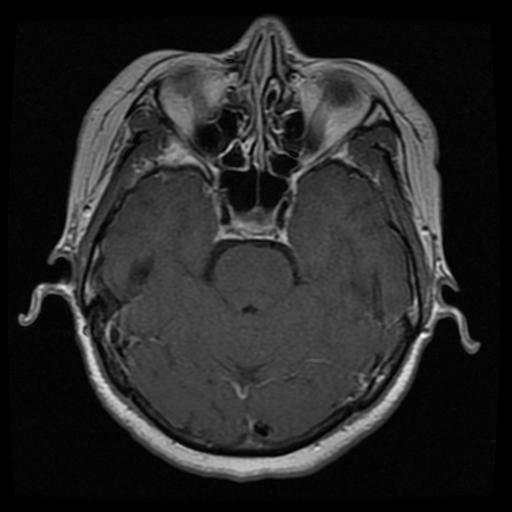Tumour-Pituitary: (213, 199, 300, 255)
